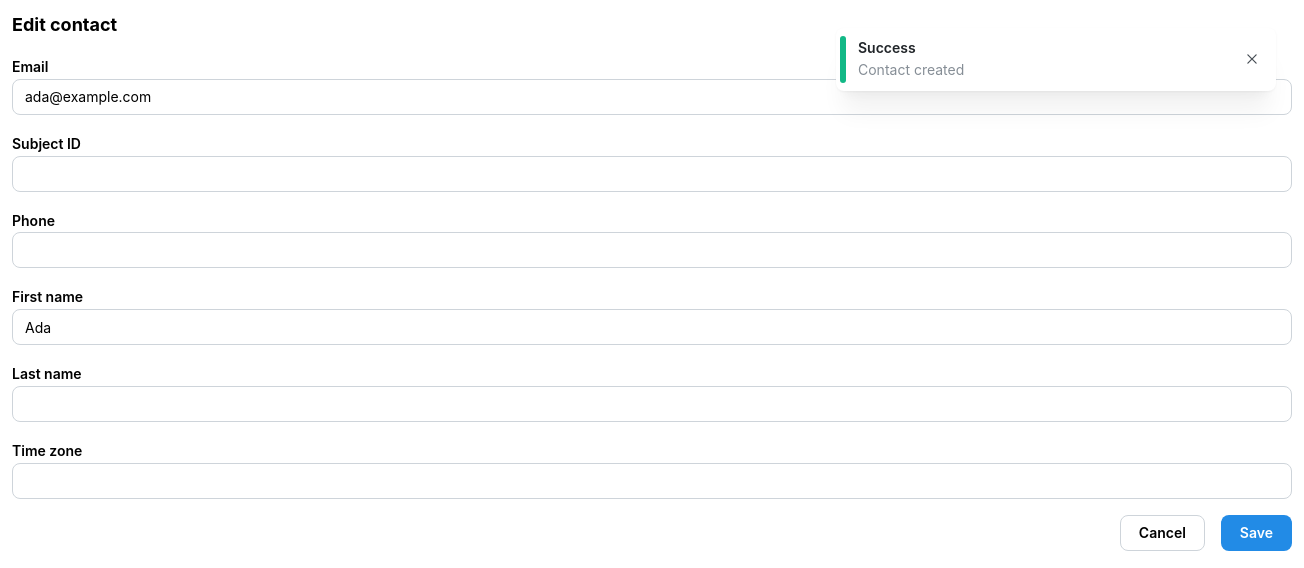
it: editing shows existing values with nulls as blanks; a cleared field is sent as null
Expected: the field labelled "Email" holds "ada@example.com", [12,79,1292,115]
Expected: the field labelled "Phone" is empty, [12,232,1292,268]
Step 1. Clear the field labelled "First name" → [652, 327], box [12,309,1292,345]
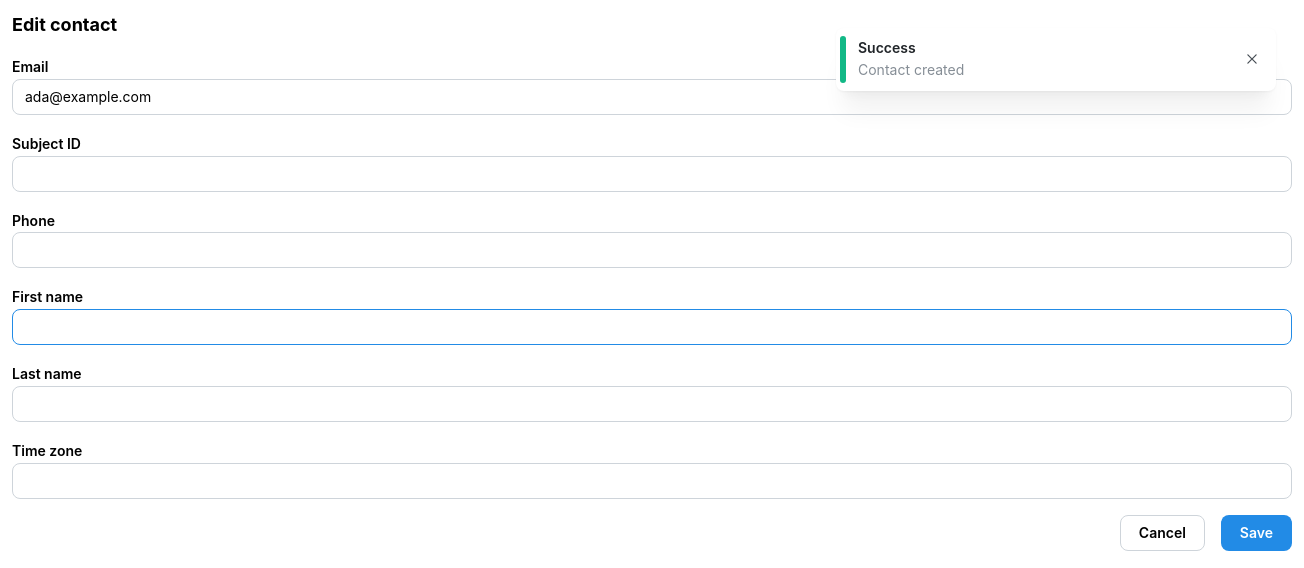
Step 2. Click the button "Save" → [1256, 533], box [1221,515,1292,551]
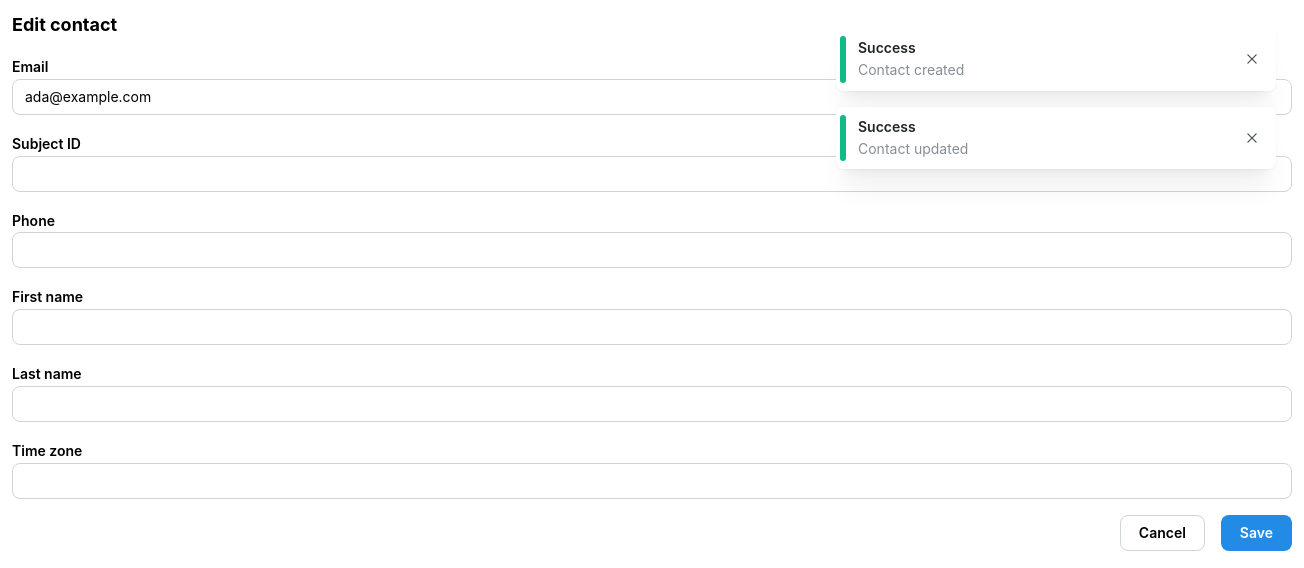
Now the text "Contact updated" is shown, box [858,140,968,157]
